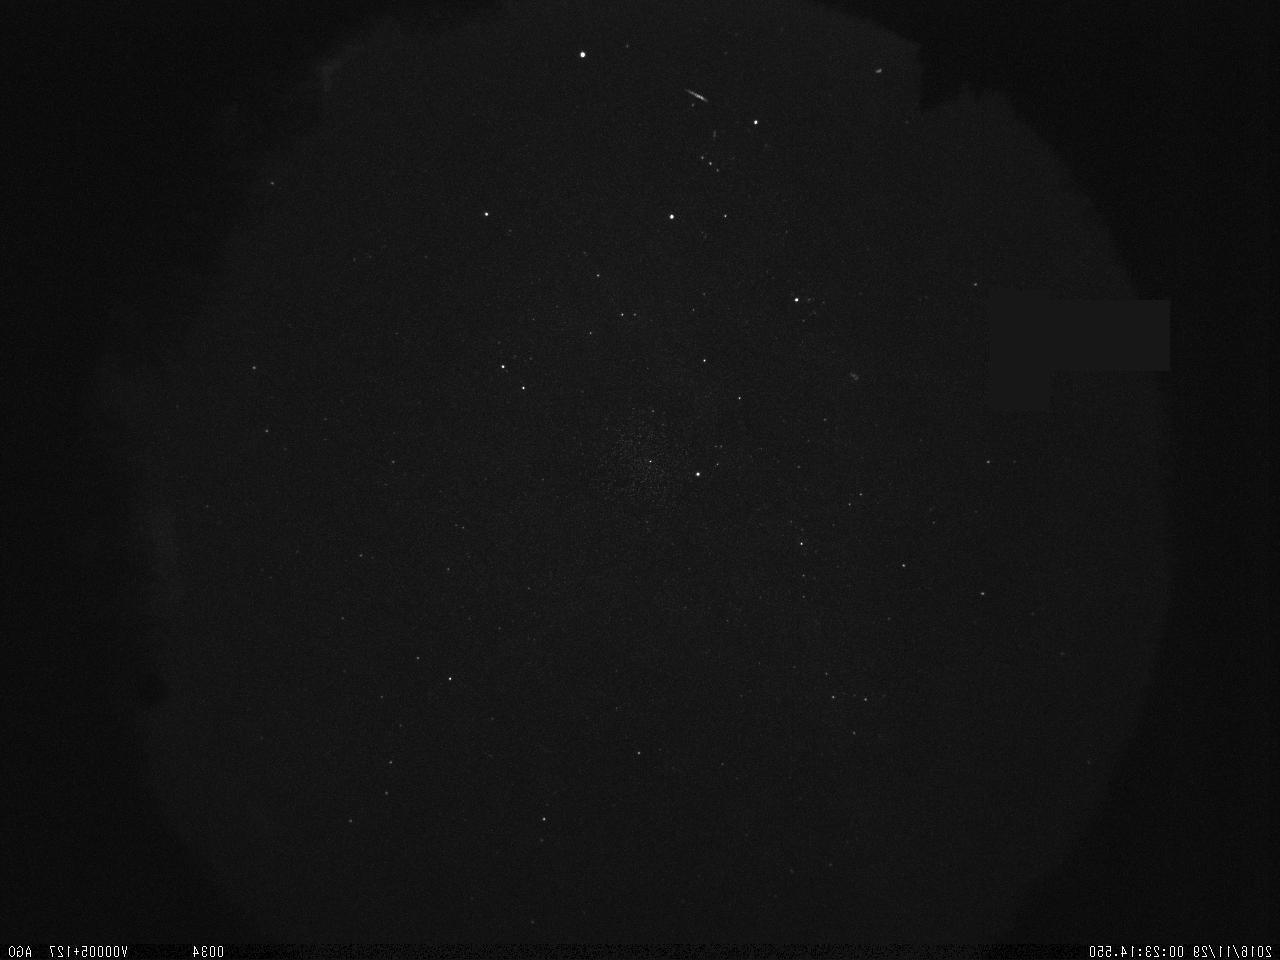meteor: (684, 82, 715, 111)
